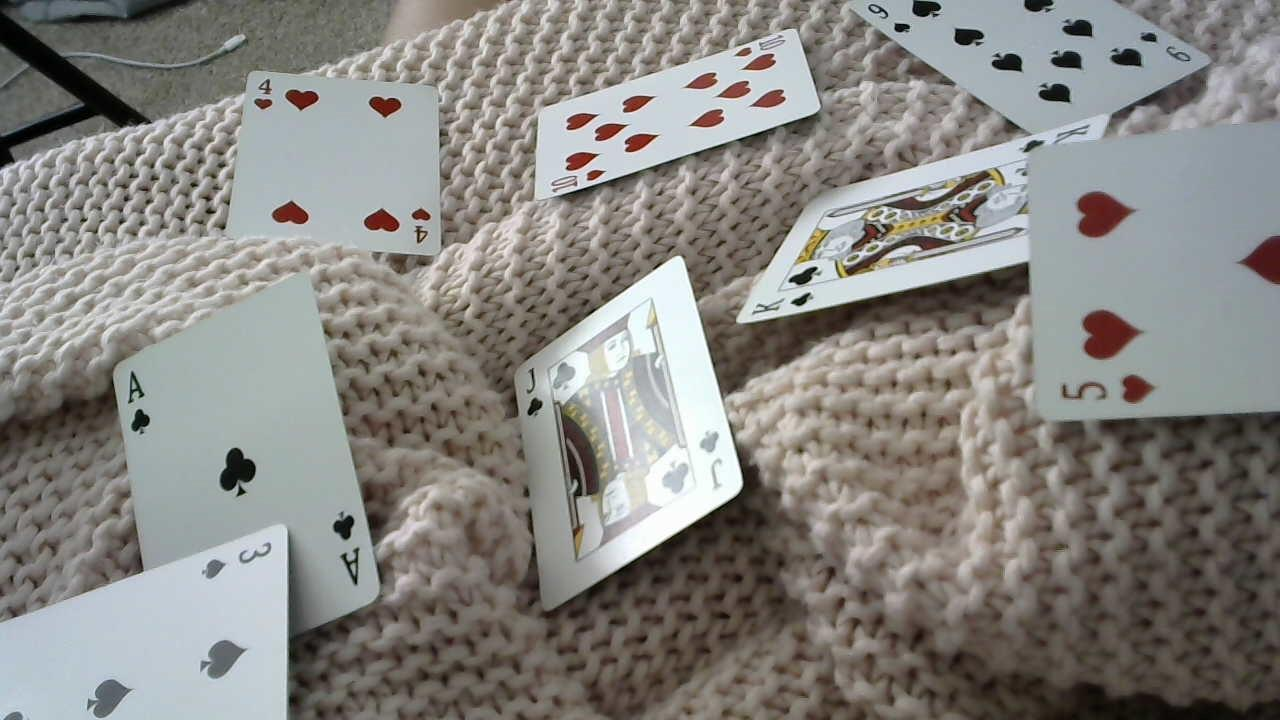10H: (545, 168, 612, 199), (733, 31, 788, 60)
4H: (409, 203, 434, 245), (251, 74, 276, 112)
4S: (198, 540, 277, 583)
5H: (1048, 367, 1165, 406)
9S: (1137, 21, 1200, 69), (864, 0, 919, 39)
AC: (330, 507, 367, 594), (123, 367, 152, 441)
JC: (695, 421, 730, 496), (523, 365, 550, 423)
KC: (1012, 122, 1097, 156), (745, 289, 824, 318)
